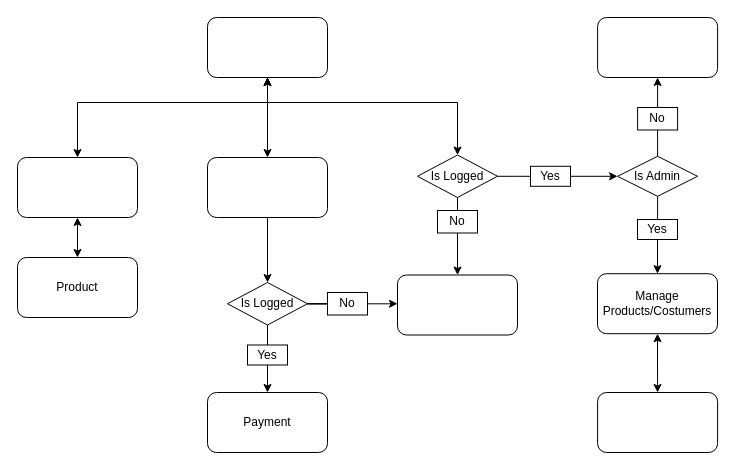
Image size: 736x470. Some labels were removed from this diagram. The centre of each missing label's shape, as x and y in pixels:
Add/Edit Product: the point at 657,422
Cart: the point at 267,187
Home: the point at 267,47
Login/Register: the point at 457,304
Product Catalogue: the point at 77,187
Profile: the point at 657,47
